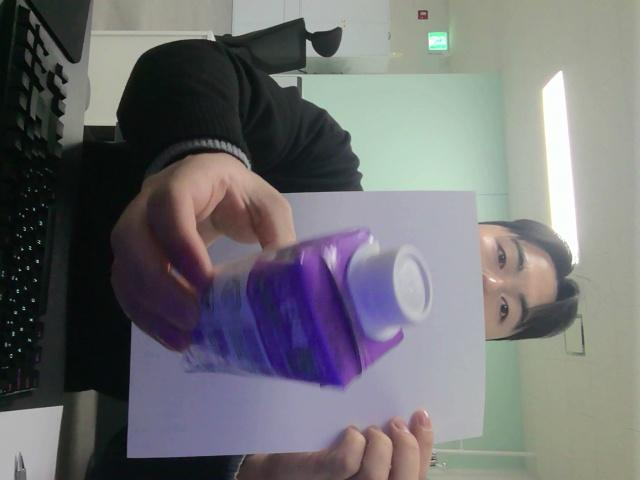milk: (184, 228, 431, 387)
